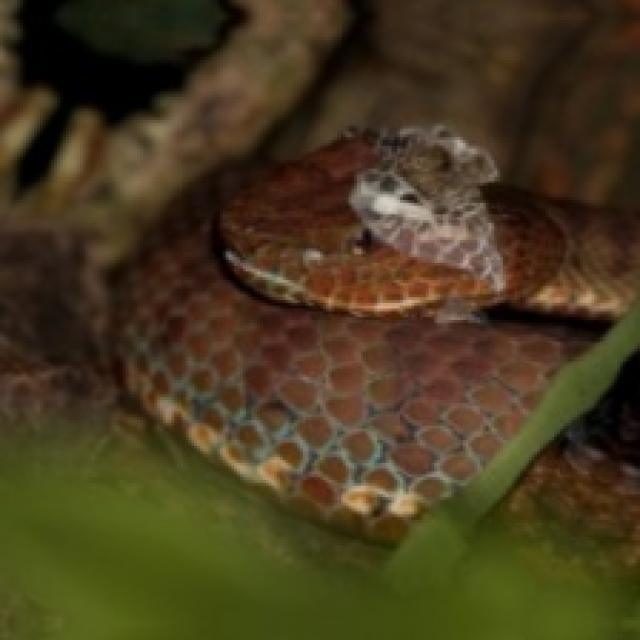philippine pitviper: (121, 128, 640, 539), (214, 126, 637, 320), (217, 383, 506, 531), (474, 420, 637, 577), (486, 186, 634, 311), (600, 617, 637, 637)
